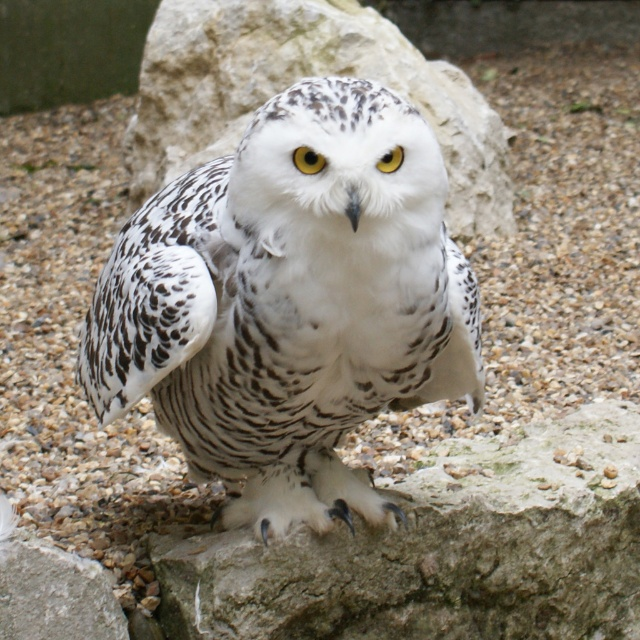Owl: (78, 75, 486, 547)
